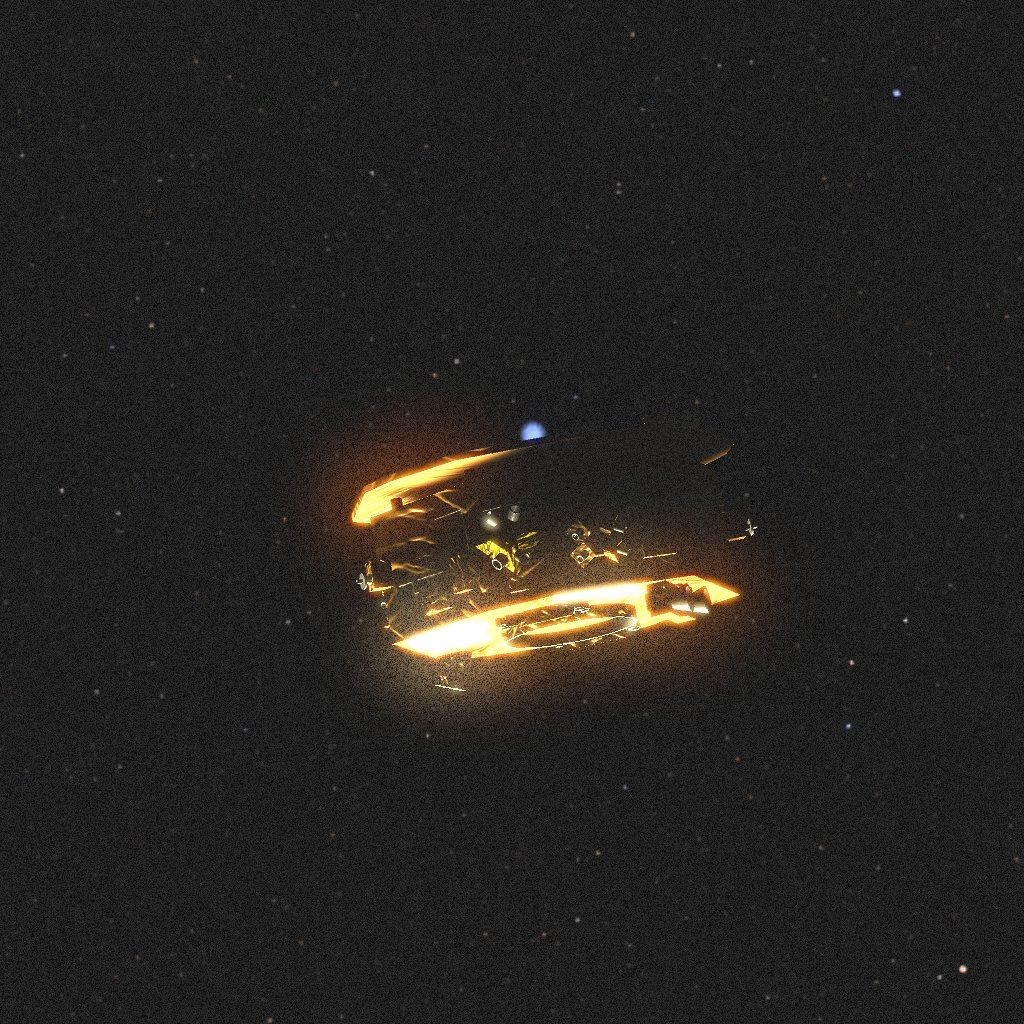lisa_pathfinder: (352, 411, 757, 691)
